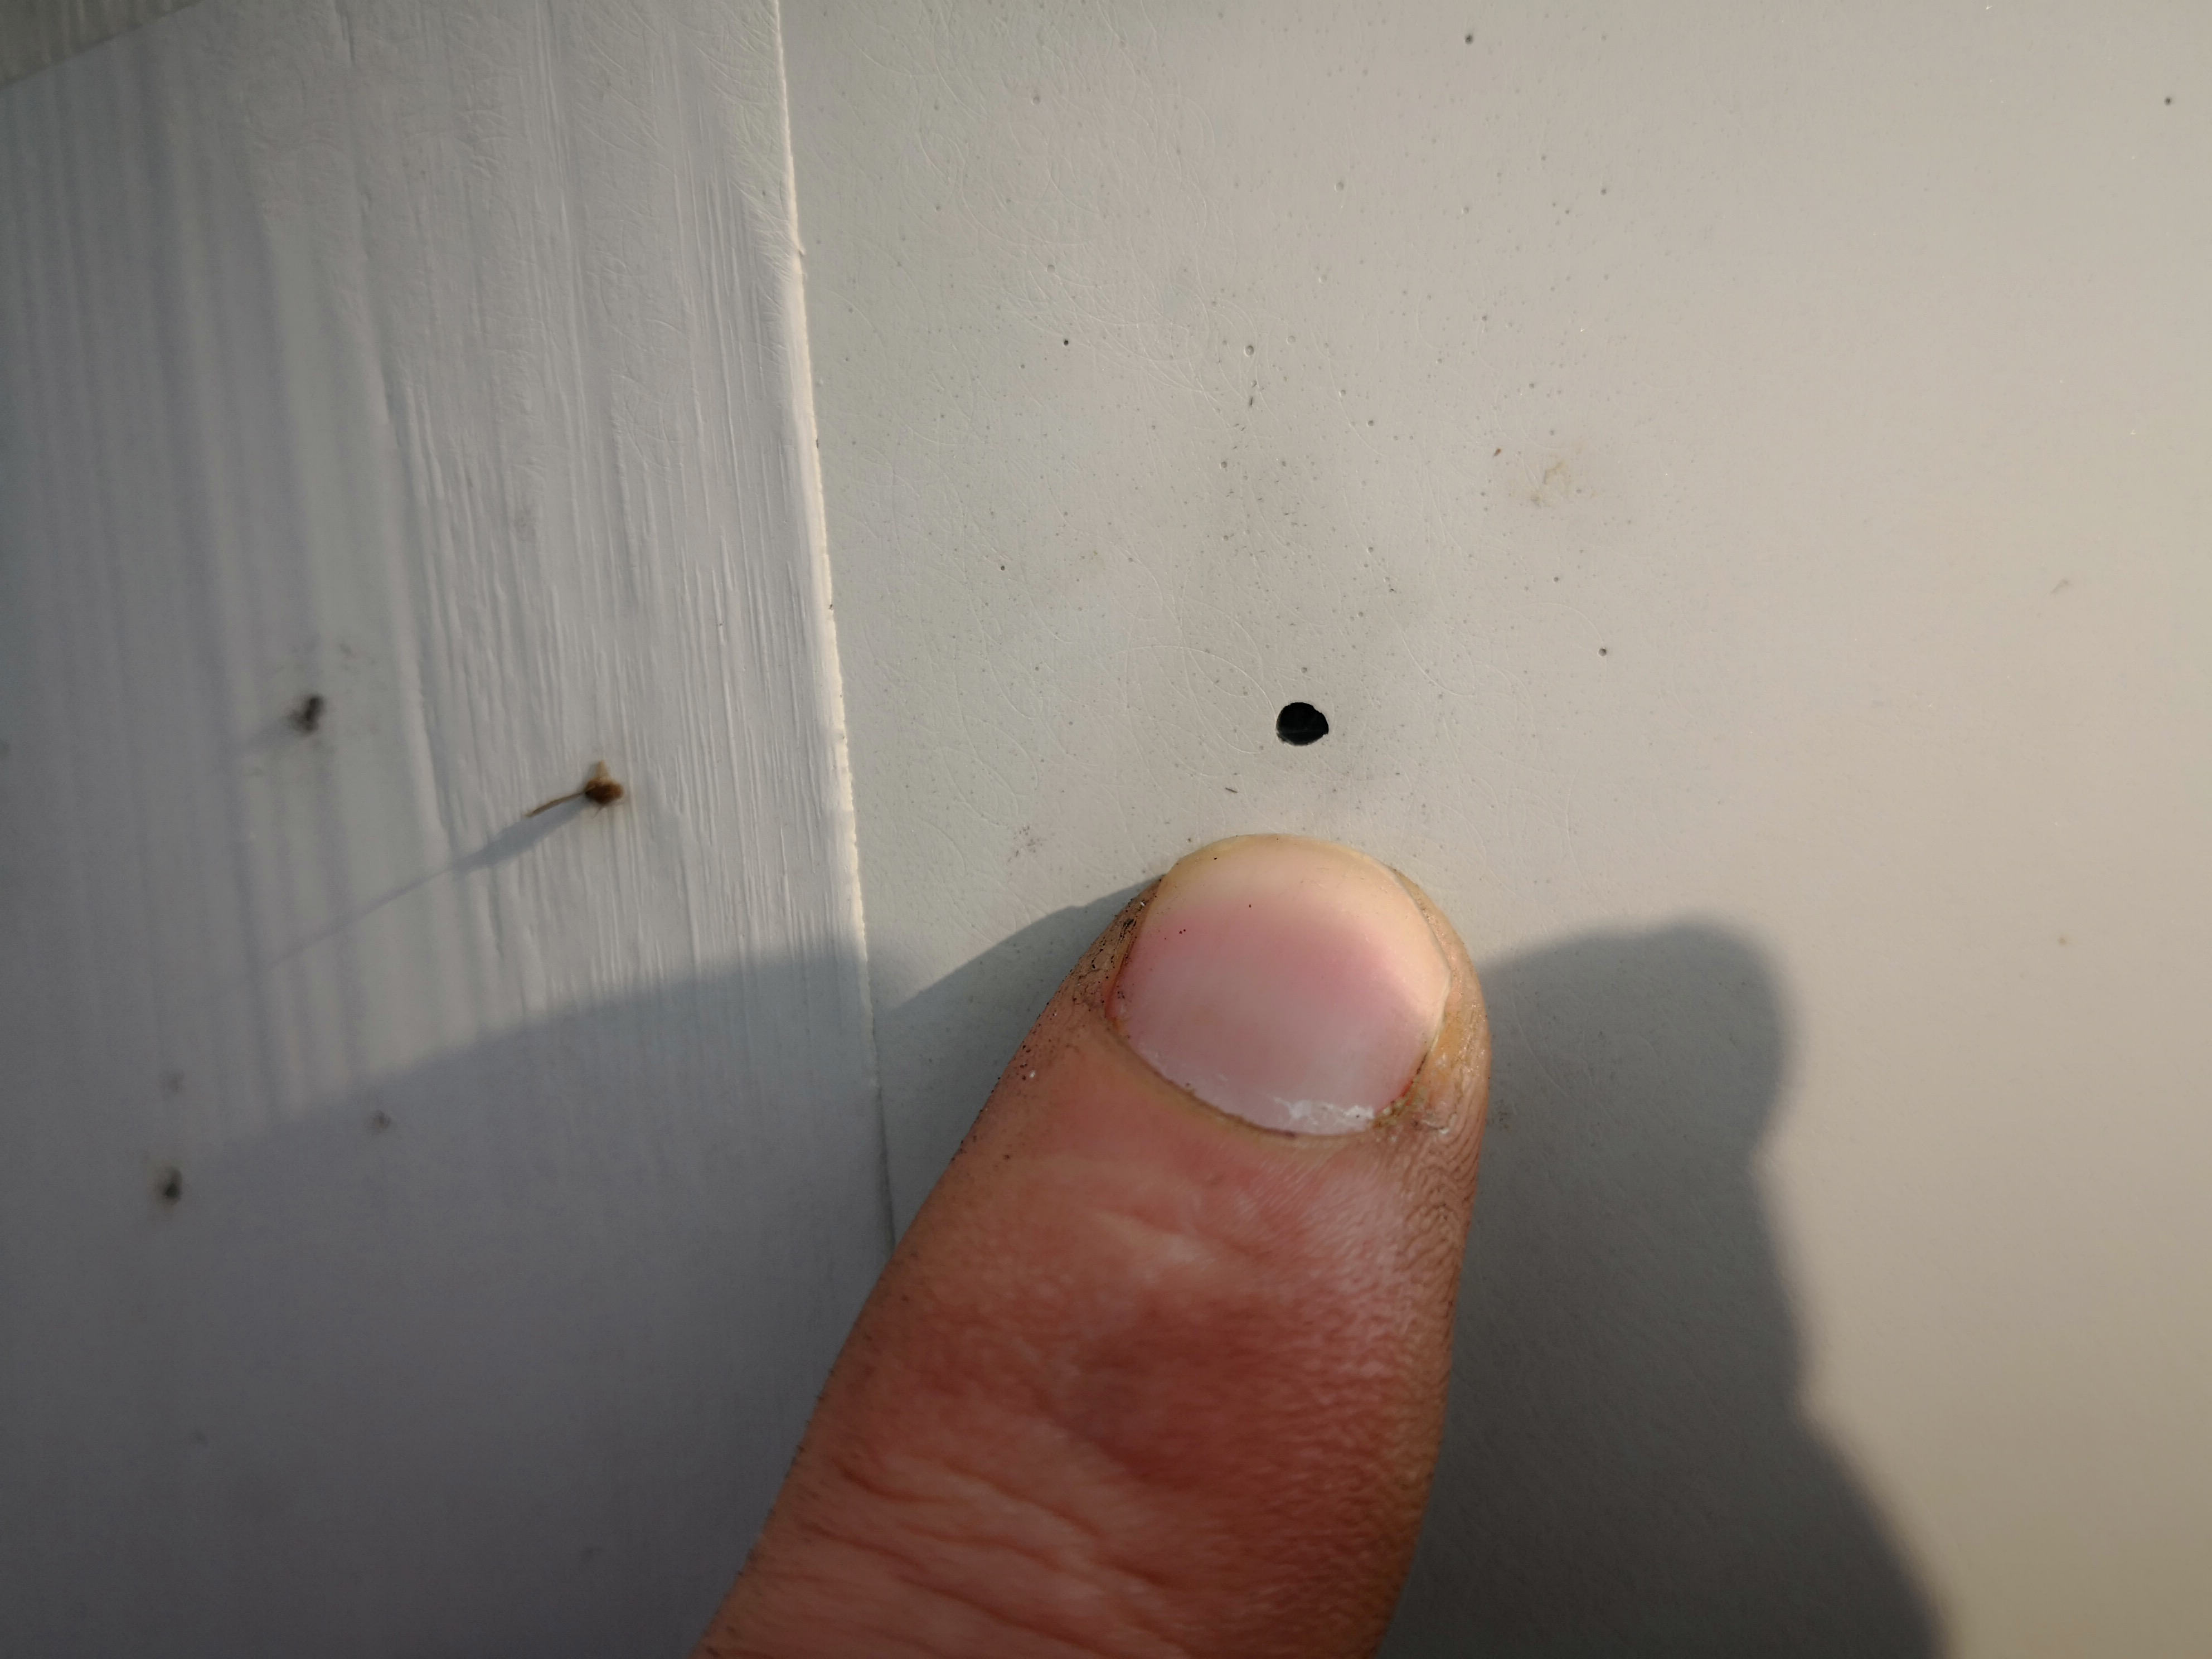Dirt: (516, 748, 634, 835)
SD: (1261, 671, 1338, 751)
